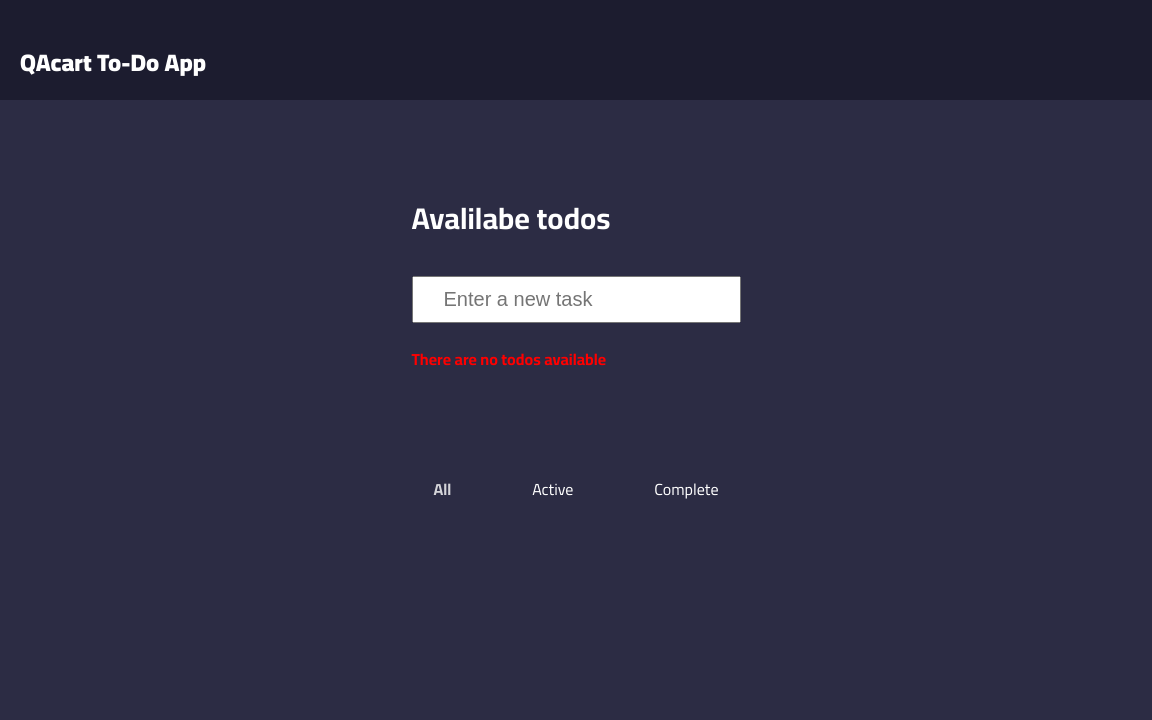
Todo UI testing › should add a new todo correctly
The width and height of the screenshot is (1152, 720).
Type "First Todo" into the field with class "todo-input" at (577, 300), box x1=412 y1=276 x2=741 y2=323
Then press Enter
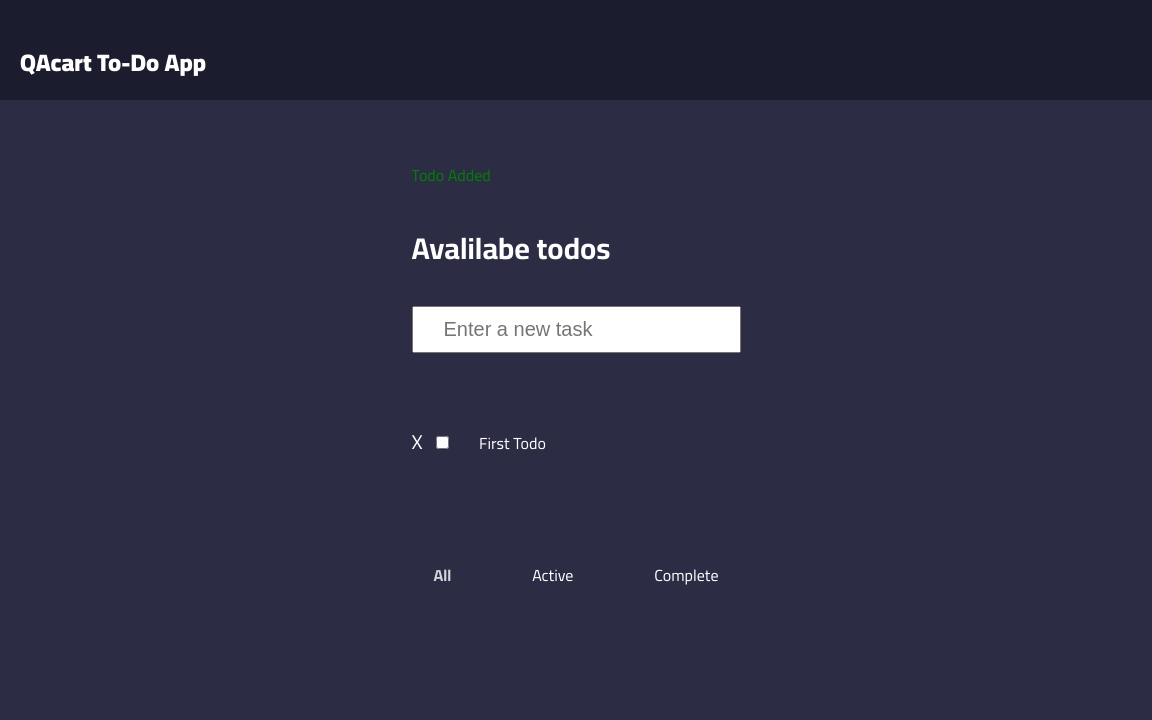
Now the text "Todo Added" is shown, box x1=412 y1=160 x2=491 y2=190
Now the list item with class "todo-item" shows "First Todo", box x1=412 y1=423 x2=547 y2=460
